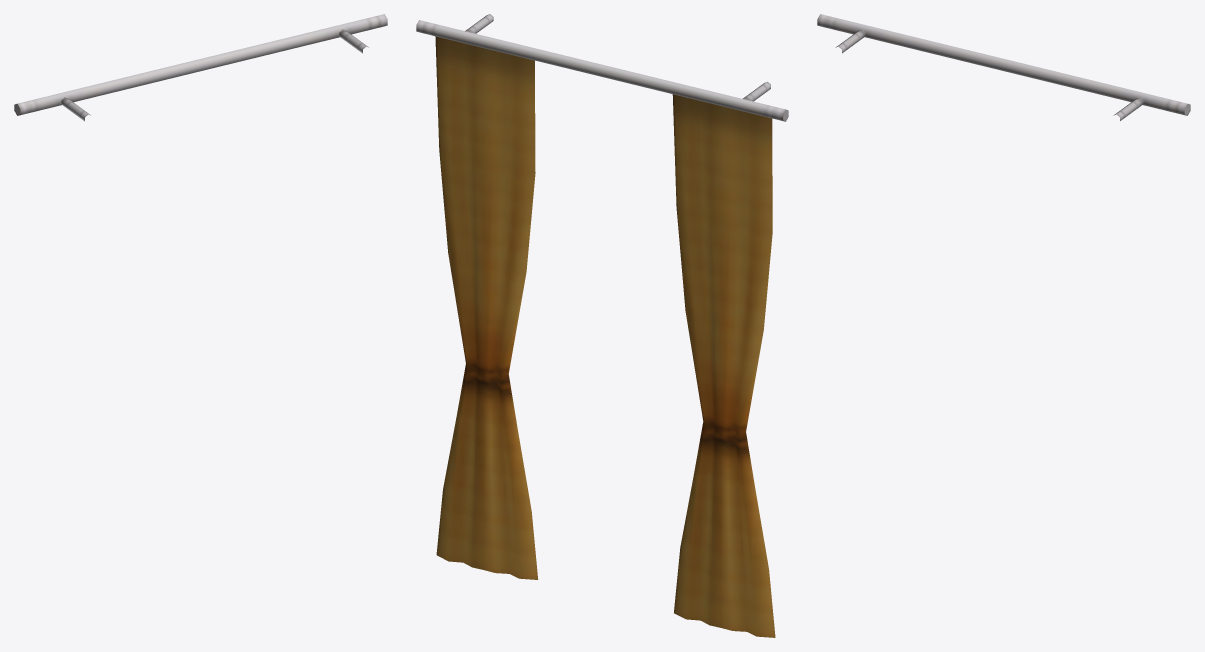
Rendered from Curtain_01.gltf.
3 views of the same model, side by side, from view 1: azimuth 30°, elevation 25°; view 2: azimuth 150°, elevation 25°; view 3: azimuth 330°, elevation 25° (orthographic).
Parts seen in each view (by area): view 1: Curtain_01; view 2: Curtain_01; view 3: Curtain_01.
Part boxes in pixels (bbox=[...]): Curtain_01: bbox=[14, 14, 387, 121]; Curtain_01: bbox=[416, 14, 788, 637]; Curtain_01: bbox=[817, 14, 1190, 120].
Size of the model in its own units: 46.45 by 64.69 by 6.44.
Materials: 1 (1 with a texture image).
